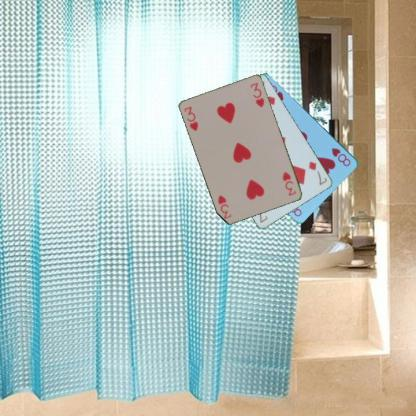3h: (181, 104, 200, 132), (280, 169, 298, 197)
7d: (306, 158, 328, 186)
8h: (329, 145, 352, 168)
